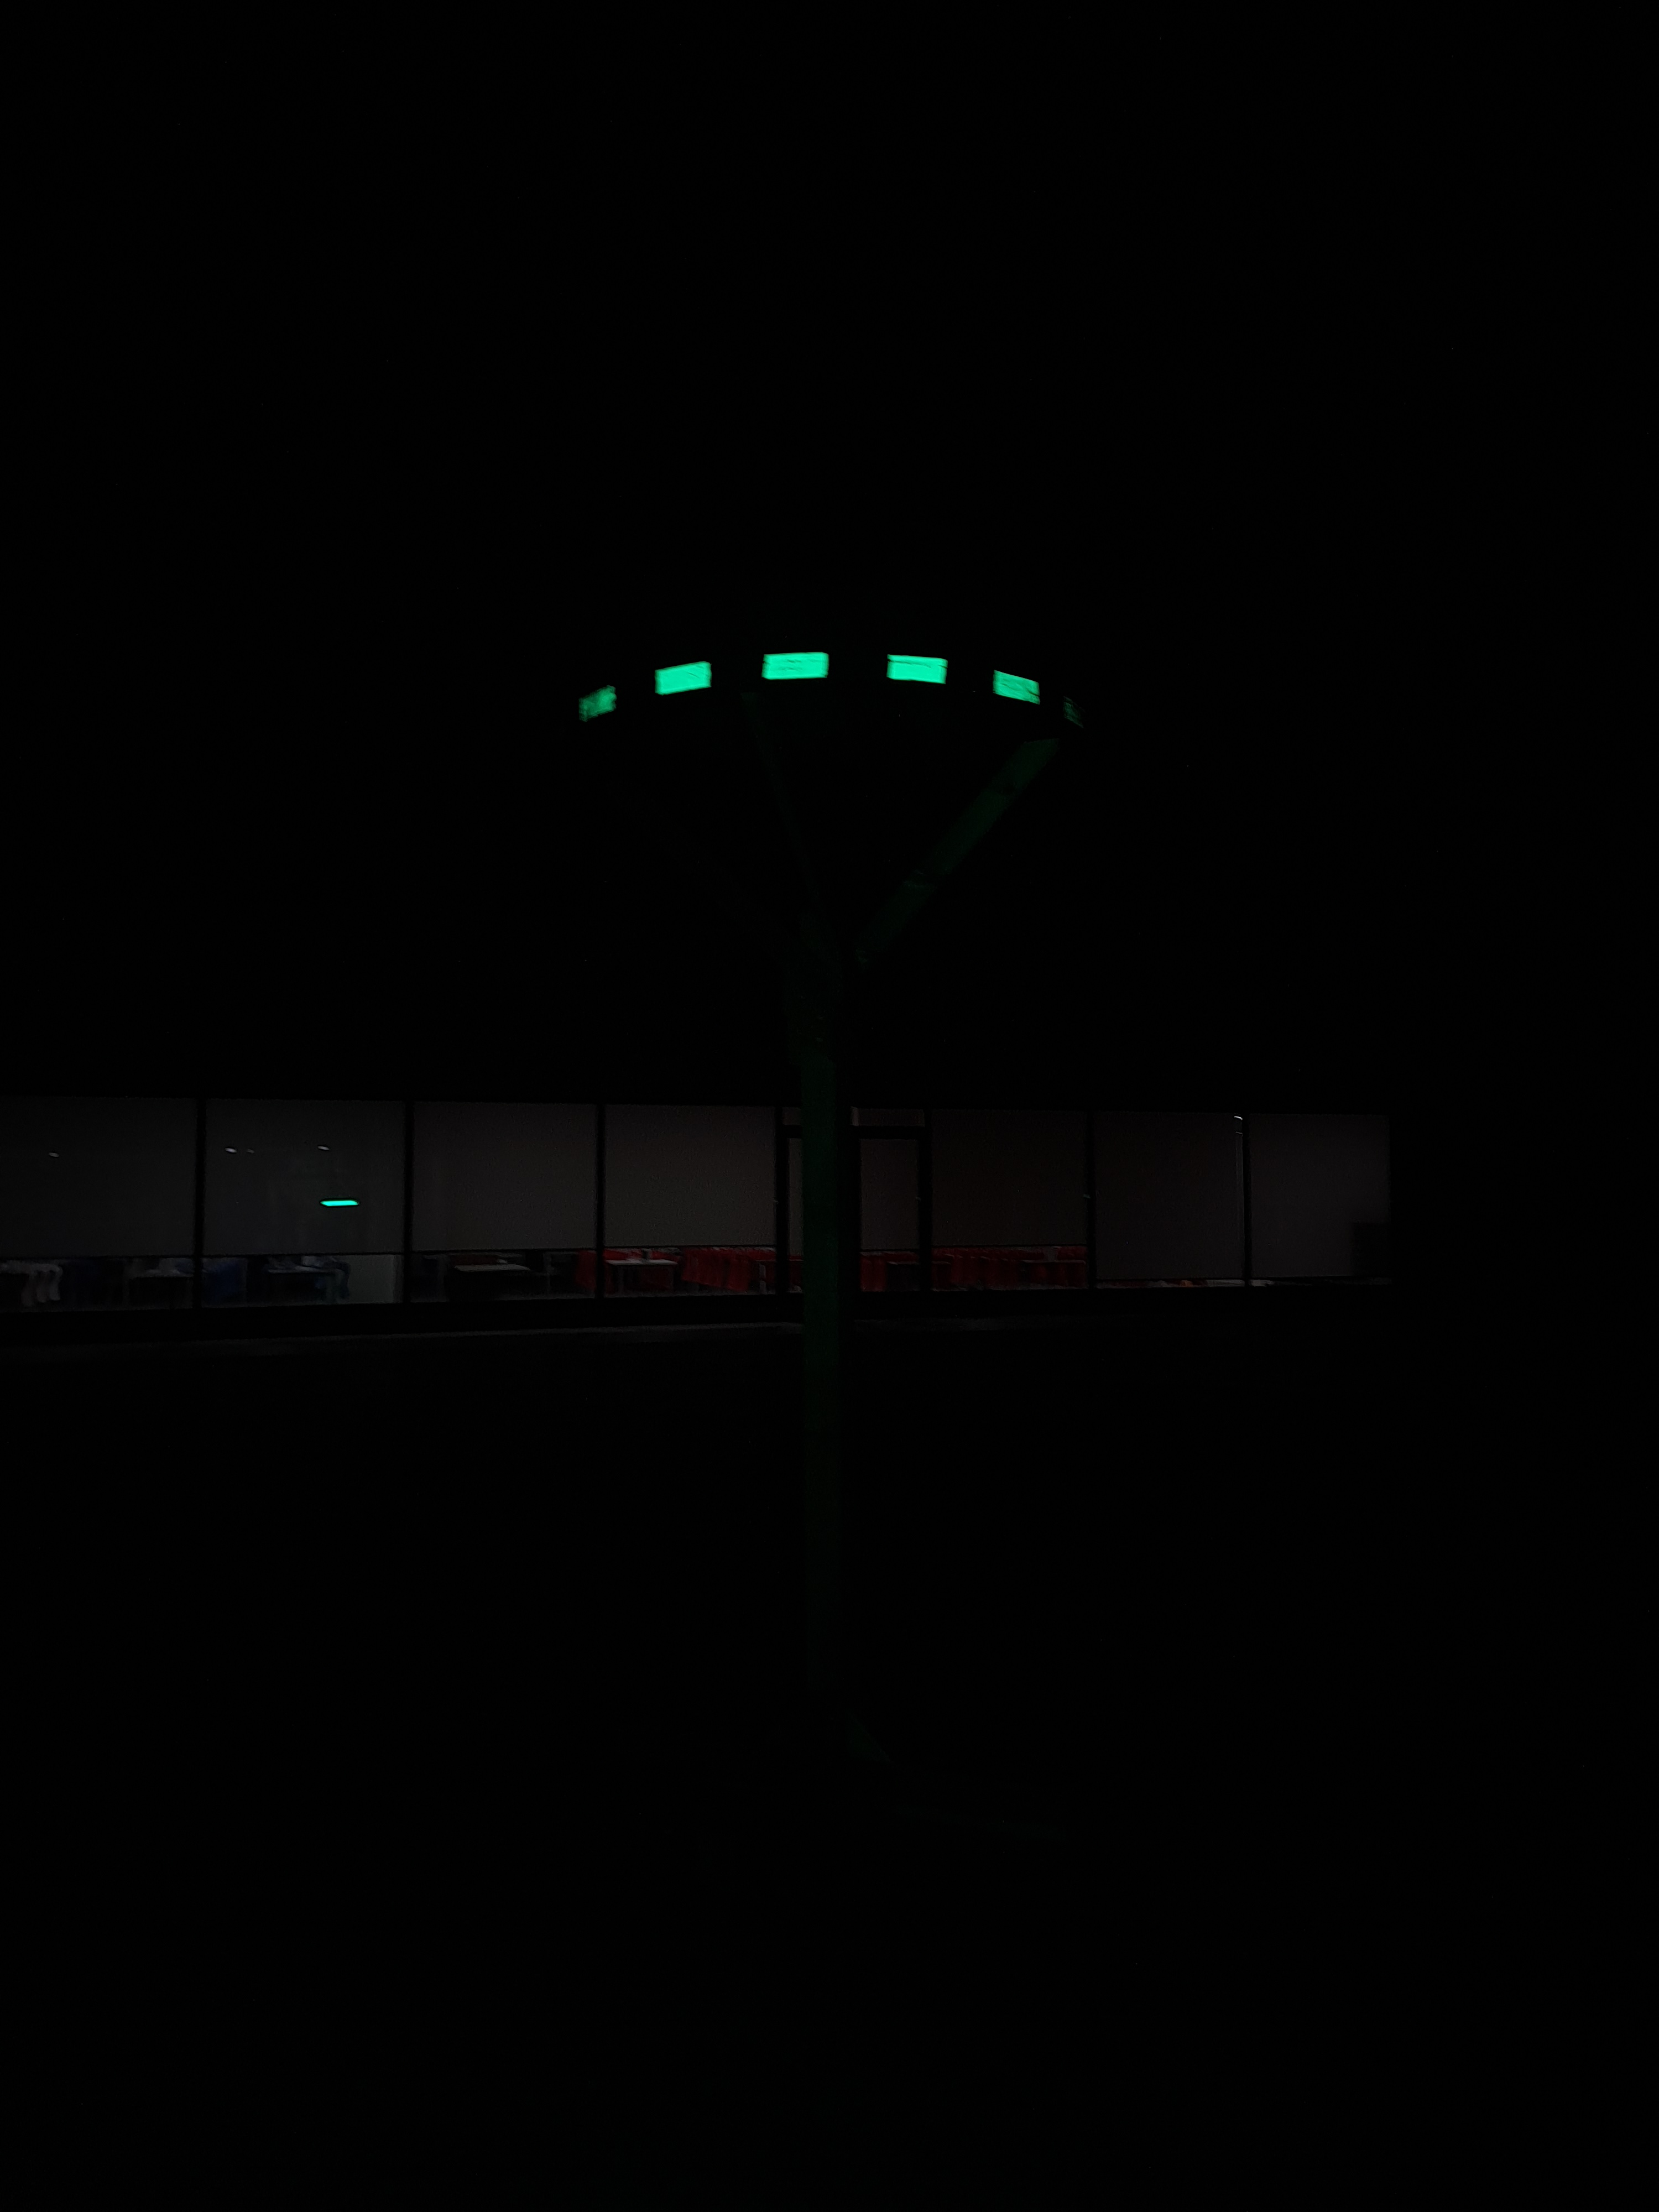hoop: (565, 653, 1047, 726)
